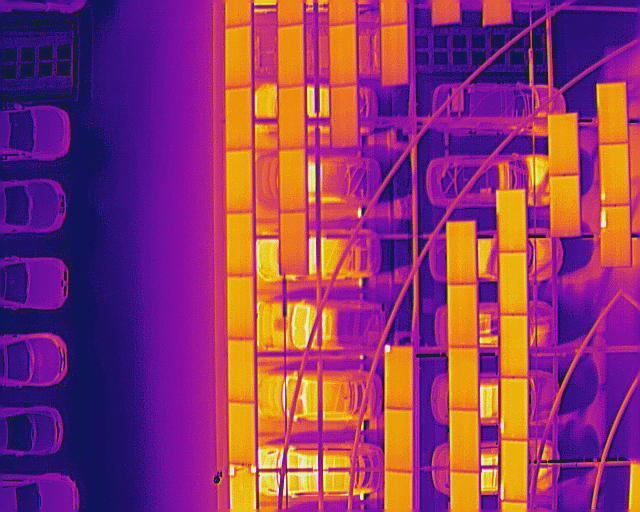Cell: (599, 143, 630, 207), (385, 346, 413, 409)
Cell-Multi: (228, 463, 256, 512)
No-Anomaly: (447, 346, 480, 412), (447, 283, 479, 348), (549, 174, 580, 239), (446, 221, 477, 285), (227, 338, 257, 404), (548, 114, 579, 176), (495, 190, 526, 251), (225, 211, 254, 276), (498, 252, 527, 316), (226, 275, 255, 339), (596, 84, 627, 143), (450, 409, 479, 472), (384, 408, 412, 473), (279, 210, 306, 276), (225, 149, 253, 212), (500, 315, 528, 378), (226, 88, 254, 150), (279, 148, 306, 212), (329, 22, 356, 86), (225, 24, 252, 88), (330, 85, 357, 148), (279, 85, 305, 150), (229, 403, 256, 464), (278, 23, 303, 88), (382, 22, 407, 85), (384, 470, 412, 512), (451, 473, 480, 512)
Unclassified: (600, 204, 631, 269), (500, 440, 527, 504), (500, 378, 527, 441)
